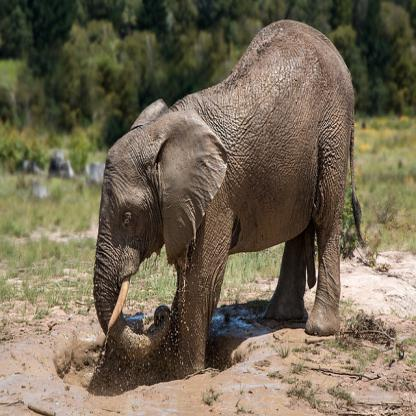elephant: (92, 21, 370, 354)
